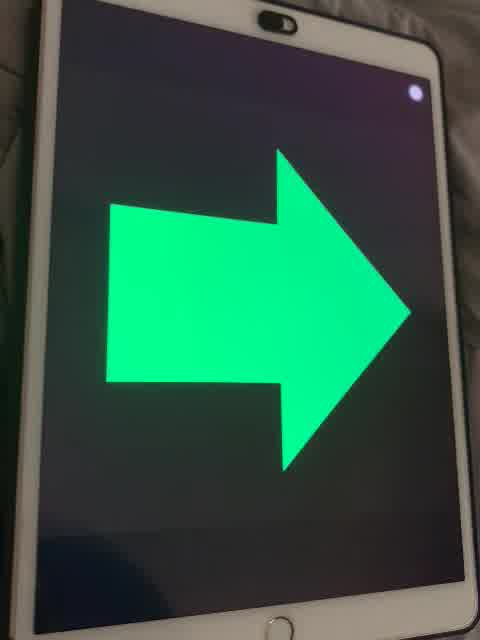right: (103, 139, 414, 474)
